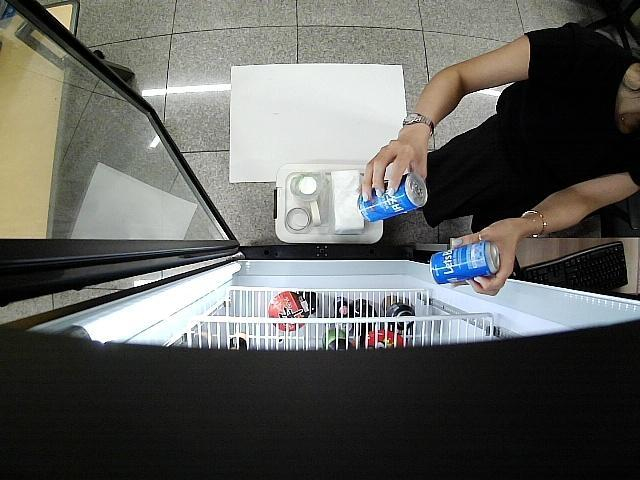15_letsbe: (358, 173, 428, 222), (431, 238, 500, 284)
